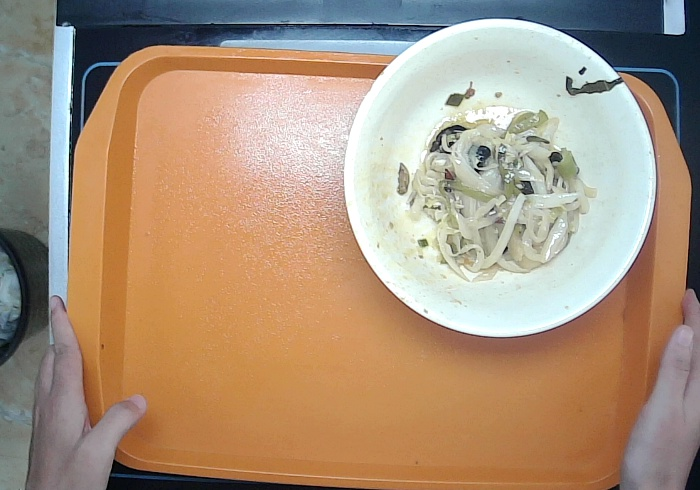ZNLD-Da_Tang_Wan: (339, 15, 659, 341)
